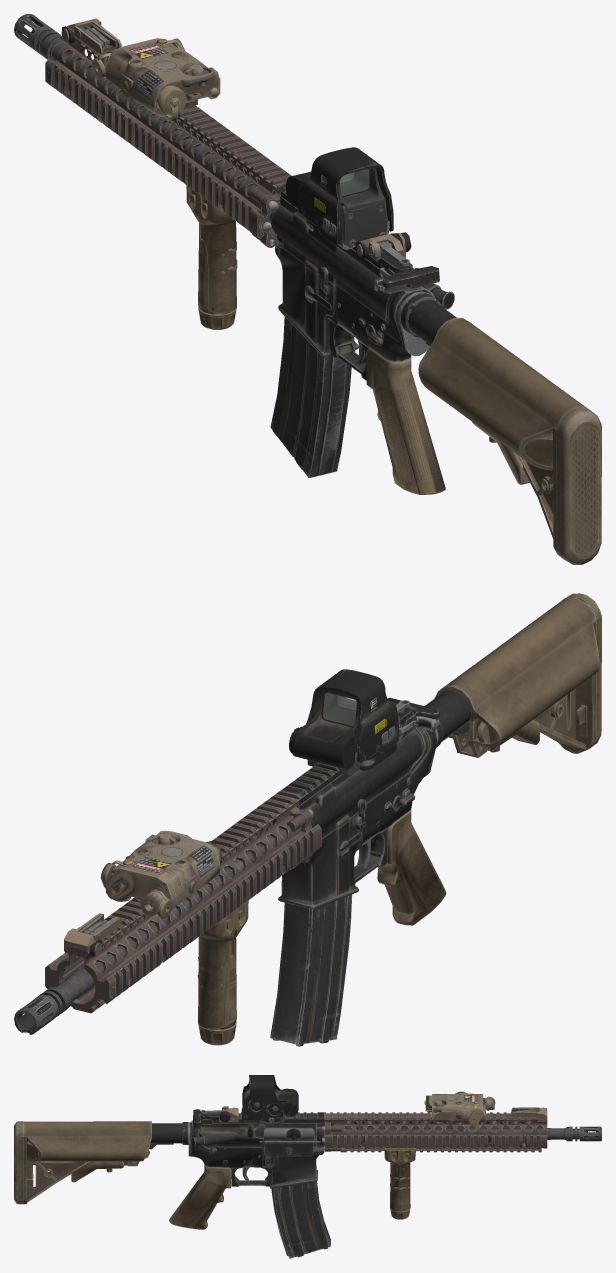
The picture shows the model from 3 angles, top to bottom: view 1: azimuth 30°, elevation 25°; view 2: azimuth 150°, elevation 25°; view 3: azimuth 270°, elevation 25°; orthographic projection. The views are drawn at different scales.
Parts seen in each view (by area): view 1: part_2_low, Ppart_3_low, Fpart_1_low, Fpart_2_low, Tpart_4_low, Tpart_3_low, Spart_7_low, Fpart_3_low, Spart_5_low, part_8_low, Tpart_5_low, part_3_low (+7 smaller); view 2: part_2_low, Fpart_1_low, Ppart_3_low, Tpart_4_low, Tpart_3_low, Spart_7_low, Spart_2_low, Fpart_2_low, Tpart_5_low, Ppart_7_low, Fpart_4_low, Spart_6_low (+9 smaller); view 3: part_2_low, Ppart_3_low, Fpart_1_low, Tpart_4_low, Tpart_3_low, Tpart_5_low, Fpart_2_low, Spart_7_low, Tpart_2_low, Ppart_2_low, Fpart_4_low, part_8_low (+6 smaller).
Part boxes in pixels (bbox=[...]): part_2_low: bbox=[66, 18, 445, 494]; Ppart_3_low: bbox=[45, 36, 291, 238]; Fpart_1_low: bbox=[418, 318, 587, 556]; Fpart_2_low: bbox=[374, 267, 601, 564]; Tpart_4_low: bbox=[275, 243, 434, 380]; Tpart_3_low: bbox=[271, 196, 441, 364]; Spart_7_low: bbox=[298, 147, 393, 244]; Fpart_3_low: bbox=[382, 266, 552, 466]; Spart_5_low: bbox=[308, 201, 386, 252]; part_8_low: bbox=[79, 24, 409, 310]; Tpart_5_low: bbox=[277, 183, 454, 373]; part_3_low: bbox=[62, 26, 411, 313]; part_2_low: bbox=[64, 723, 446, 1046]; Fpart_1_low: bbox=[434, 597, 599, 757]; Ppart_3_low: bbox=[45, 790, 321, 1009]; Tpart_4_low: bbox=[278, 728, 437, 909]; Tpart_3_low: bbox=[273, 725, 438, 867]; Spart_7_low: bbox=[306, 669, 398, 762]; Spart_2_low: bbox=[294, 689, 380, 766]; Fpart_2_low: bbox=[399, 593, 601, 751]; Tpart_5_low: bbox=[281, 706, 412, 882]; Ppart_7_low: bbox=[14, 809, 313, 1034]; Fpart_4_low: bbox=[425, 690, 587, 742]; Spart_6_low: bbox=[307, 691, 359, 774]; part_2_low: bbox=[169, 1091, 547, 1258]; Ppart_3_low: bbox=[324, 1112, 547, 1148]; Fpart_1_low: bbox=[23, 1121, 151, 1204]; Tpart_4_low: bbox=[190, 1120, 324, 1188]; Tpart_3_low: bbox=[188, 1122, 324, 1182]; Tpart_5_low: bbox=[192, 1112, 324, 1185]; Fpart_2_low: bbox=[14, 1110, 204, 1204]; Spart_7_low: bbox=[242, 1075, 283, 1120]; Tpart_2_low: bbox=[182, 1122, 313, 1165]; Ppart_2_low: bbox=[340, 1129, 541, 1152]; Fpart_4_low: bbox=[27, 1123, 184, 1188]; part_8_low: bbox=[201, 1091, 538, 1190].
Size of the model in its own units: 0.0713 by 0.278 by 0.84.
Materials: 5 (5 with a texture image).
